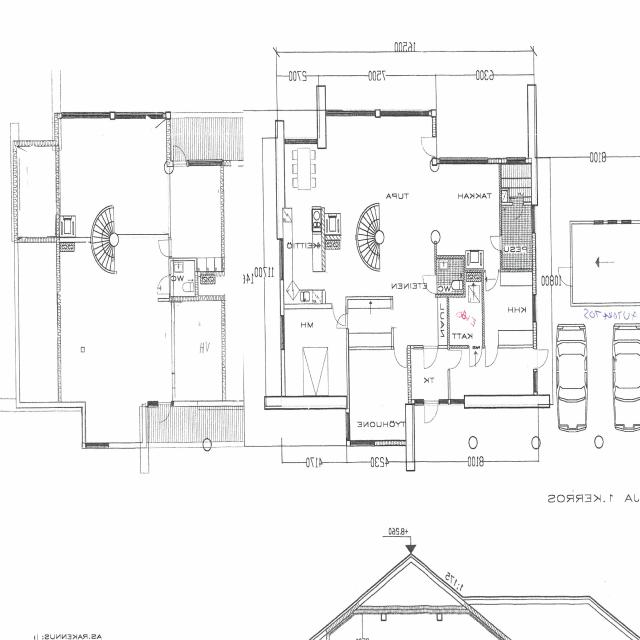door: (419, 136, 437, 157), (423, 346, 438, 370), (154, 275, 171, 295), (425, 398, 438, 424), (333, 304, 347, 328), (154, 400, 166, 426), (390, 309, 406, 328), (422, 274, 437, 294), (533, 350, 549, 368), (174, 141, 186, 165), (155, 239, 171, 257), (557, 267, 572, 286), (485, 346, 498, 367), (486, 268, 498, 290), (447, 351, 461, 369), (469, 346, 481, 366), (394, 346, 406, 366), (337, 314, 351, 328), (512, 203, 522, 220), (490, 236, 502, 250)
